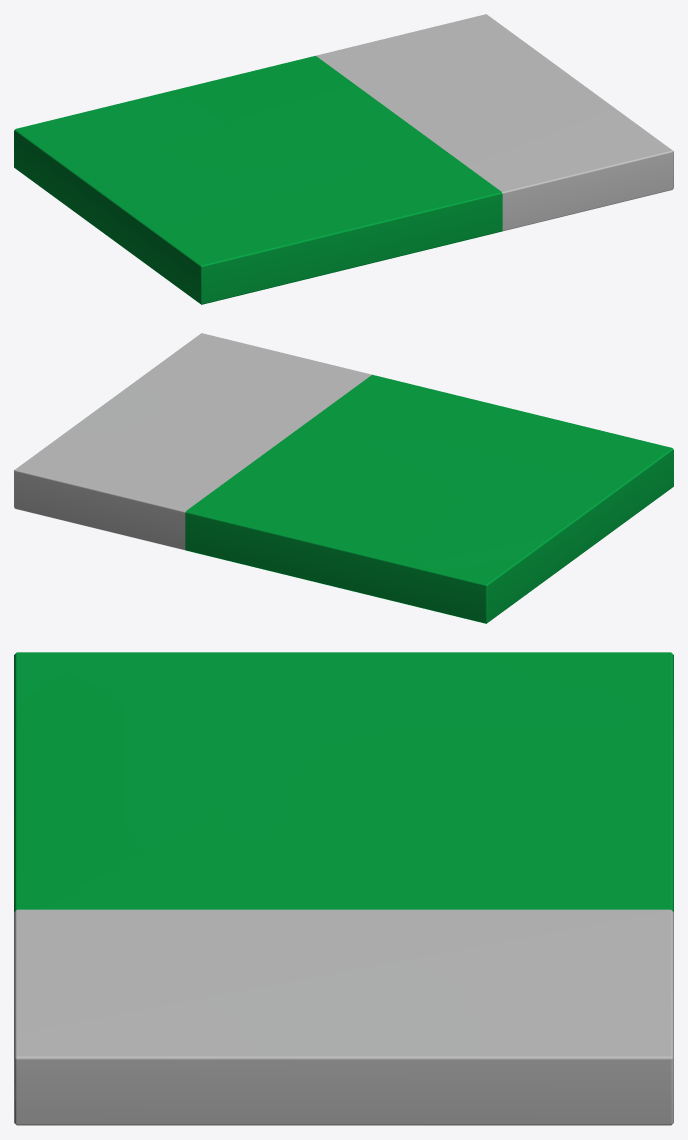
File: Town_18_Base_1.glb
3 views of the same model, one above another, from view 1: azimuth 30°, elevation 25°; view 2: azimuth 150°, elevation 25°; view 3: azimuth 270°, elevation 25° (orthographic). The views are drawn at different scales.
Parts seen in each view (by area): view 1: Town_18_Base_1; view 2: Town_18_Base_1; view 3: Town_18_Base_1.
Boxes of the visible parts, x1,y1,x2,y2 form: Town_18_Base_1: (14,14,673,304); Town_18_Base_1: (14,333,673,623); Town_18_Base_1: (14,652,673,1125).
Bounding box in the file's own units: 14.29 × 1.15 × 9.81.
Materials: 1 (1 with a texture image).
